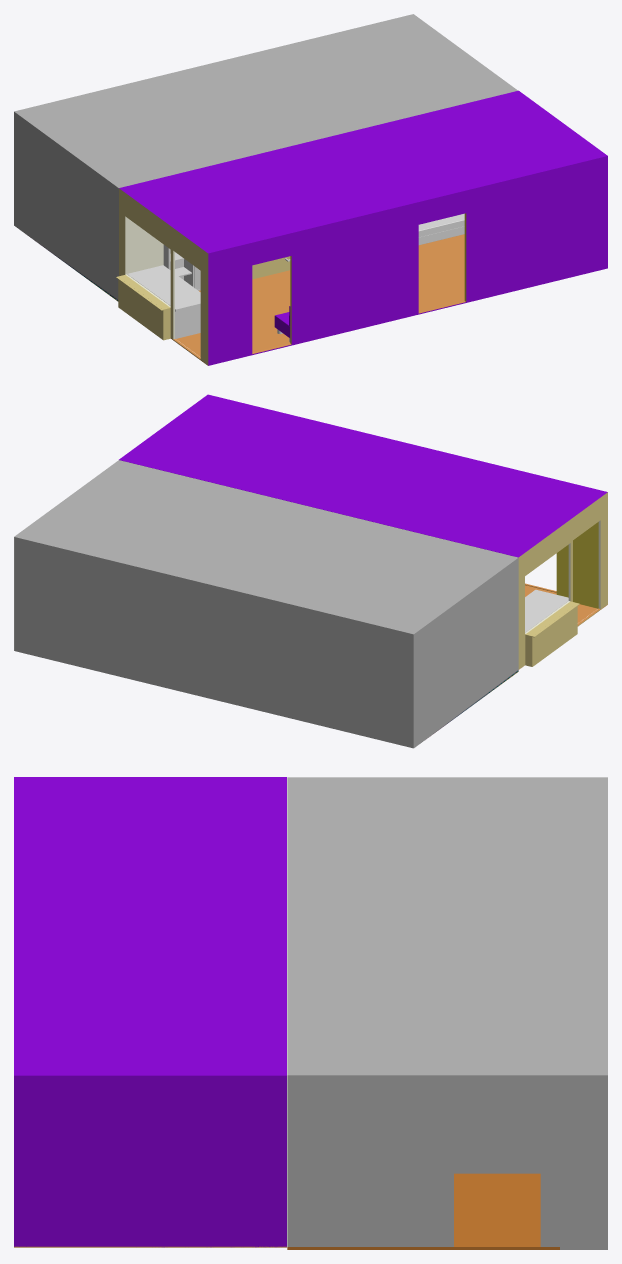
Rendered from kitchen.glb.
The picture shows the model from 3 angles, top to bottom: view 1: azimuth 30°, elevation 25°; view 2: azimuth 150°, elevation 25°; view 3: azimuth 270°, elevation 25°; orthographic projection. The views are drawn at different scales.
Parts seen in each view (by area): view 1: Куб.001, my-ketchen-1, floor, Куб.016, Куб.021, Куб.002, Cube.004, Cube; view 2: my-ketchen-1, Куб.001, Куб.016; view 3: my-ketchen-1, Куб.001.
Boxes of the visible parts, <box> form: Куб.001: <box>116,90,607,365</box>; my-ketchen-1: <box>14,14,517,301</box>; floor: <box>176,234,464,356</box>; Куб.016: <box>127,265,200,338</box>; Куб.021: <box>122,214,163,274</box>; Куб.002: <box>418,213,464,245</box>; Cube.004: <box>163,245,200,290</box>; Cube: <box>252,256,290,279</box>; my-ketchen-1: <box>14,460,518,748</box>; Куб.001: <box>119,394,607,669</box>; Куб.016: <box>525,589,568,632</box>; my-ketchen-1: <box>287,777,607,1249</box>; Куб.001: <box>14,777,286,1247</box>.
Size of the model in its own units: 22.53 by 6.08 by 18.51.
9 materials, 1 textured.
